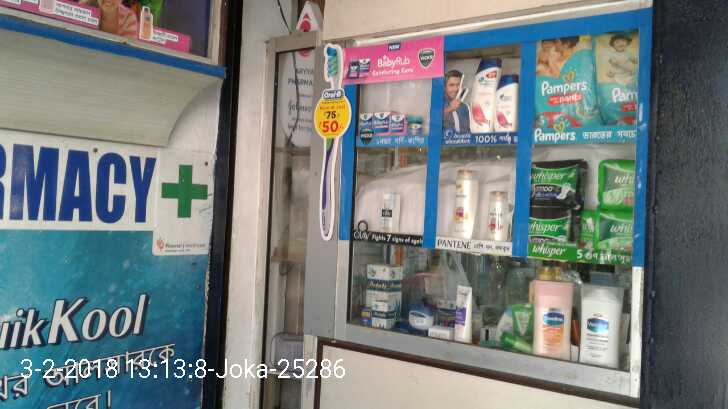vicks: (357, 108, 422, 140)
